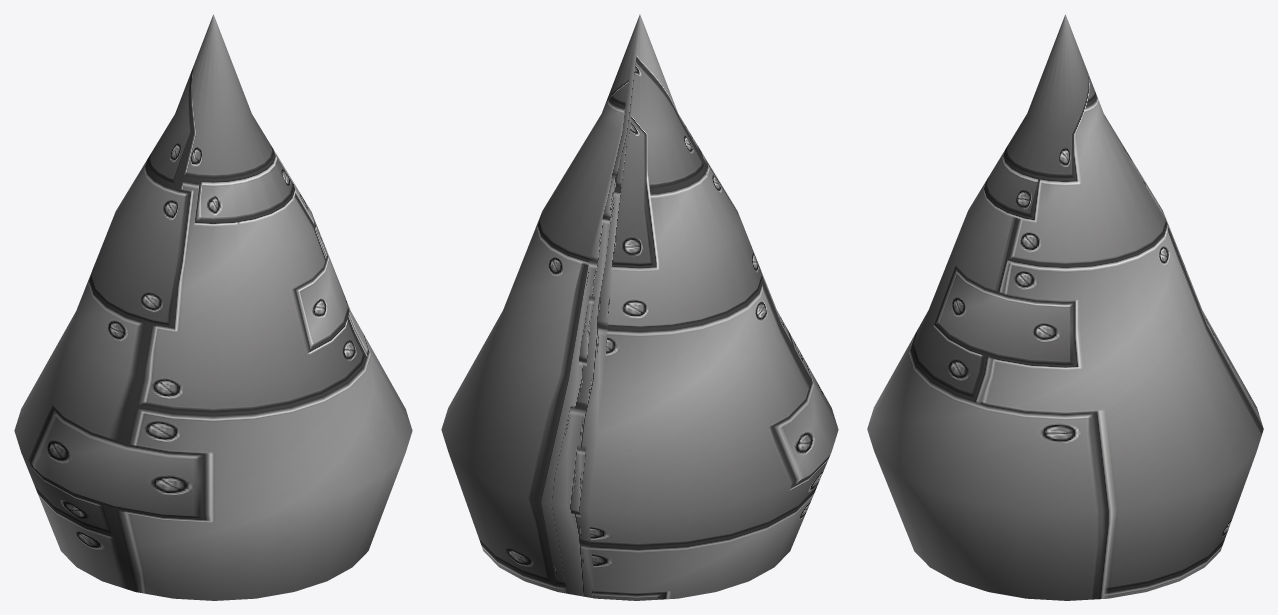
Rendered from Pics texturé.fbx.
3 renders of one model, left to right at view 1: azimuth 30°, elevation 25°; view 2: azimuth 150°, elevation 25°; view 3: azimuth 270°, elevation 25°, orthographic.
Visible parts, largest first — view 1: Cone001; view 2: Cone001; view 3: Cone001.
Part boxes in pixels (left/top/right/bottom): Cone001: left=14, top=14, right=412, bottom=600; Cone001: left=441, top=14, right=838, bottom=600; Cone001: left=867, top=14, right=1263, bottom=600.
Bounding box in the file's own units: 0.7167 × 1.03 × 0.7167.
